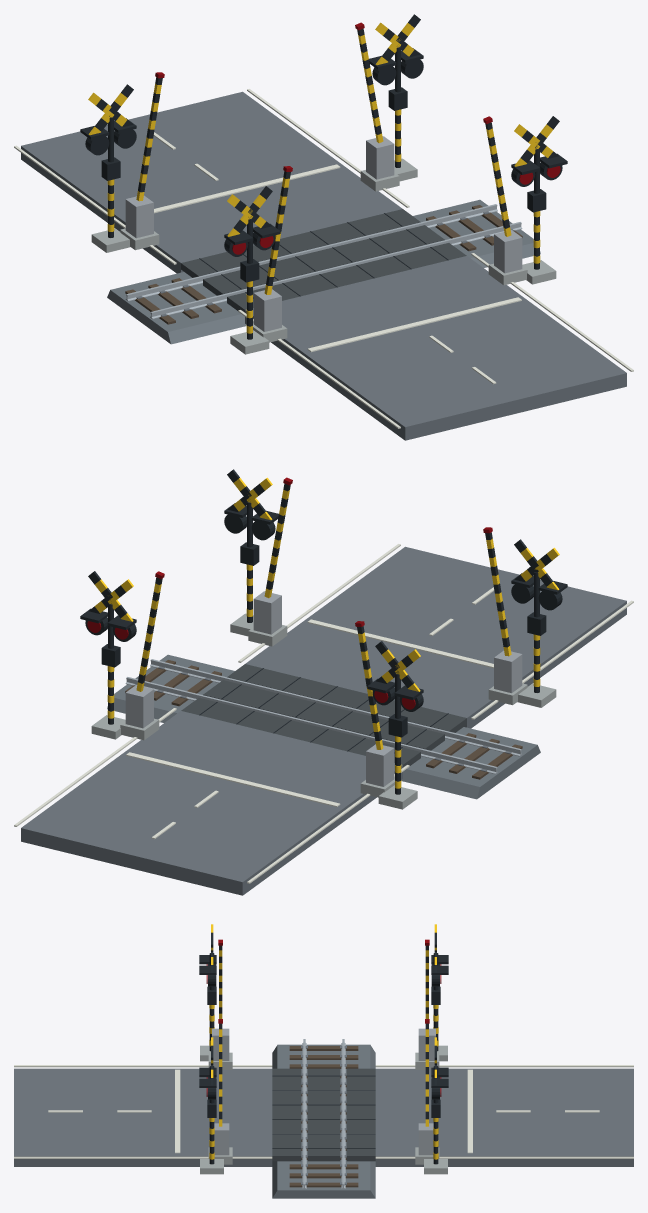
The model's file is crossing.glb.
3 renders of one model, top to bottom at view 1: azimuth 30°, elevation 25°; view 2: azimuth 150°, elevation 25°; view 3: azimuth 270°, elevation 25°, orthographic. The views are drawn at different scales.
Visible parts, largest first — view 1: RoadApproach, RoadApproach.001, Bed.001, RubberPanel.001, RubberPanel.002, RubberPanel, Rail_0_1.001, Rail_0_-1.001, StopLine, GateMotor.003, GateMotor.001, GateMotor.002 (+8 smaller); view 2: RoadApproach.001, RoadApproach, Bed.001, RubberPanel.001, RubberPanel, RubberPanel.002, Rail_0_-1.001, Rail_0_1.001, StopLine.001, GateMotor.001, GateMotor.003, GateMotor (+8 smaller); view 3: RoadApproach, RoadApproach.001, Bed.001, RubberPanel.001, RubberPanel, RubberPanel.002, RoadEdge, RoadEdge.001, RoadEdge.002, RoadEdge.003, Rail_0_1.001, Rail_0_-1.001 (+6 smaller).
Part boxes in pixels (left/top/right/bottom): RoadApproach: left=245, top=256, right=626, bottom=440; RoadApproach.001: left=21, top=91, right=402, bottom=273; Bed.001: left=107, top=199, right=540, bottom=344; RubberPanel.001: left=203, top=225, right=444, bottom=295; RubberPanel.002: left=181, top=209, right=420, bottom=277; RubberPanel: left=227, top=243, right=466, bottom=312; Rail_0_1.001: left=125, top=204, right=497, bottom=301; Rail_0_-1.001: left=150, top=222, right=522, bottom=319; StopLine: left=307, top=297, right=521, bottom=352; GateMotor.003: left=366, top=136, right=394, bottom=179; GateMotor.001: left=494, top=230, right=522, bottom=273; GateMotor.002: left=125, top=195, right=153, bottom=238; RoadApproach.001: left=21, top=711, right=402, bottom=895; RoadApproach: left=245, top=546, right=626, bottom=728; Bed.001: left=107, top=654, right=540, bottom=799; RubberPanel.001: left=203, top=680, right=444, bottom=750; RubberPanel: left=227, top=664, right=466, bottom=732; RubberPanel.002: left=181, top=698, right=420, bottom=767; Rail_0_-1.001: left=150, top=659, right=522, bottom=756; Rail_0_1.001: left=125, top=677, right=497, bottom=774; StopLine.001: left=126, top=752, right=340, bottom=807; GateMotor.001: left=253, top=591, right=281, bottom=634; GateMotor.003: left=125, top=685, right=153, bottom=728; GateMotor: left=494, top=650, right=522, bottom=693; RoadApproach: left=14, top=1068, right=272, bottom=1166; RoadApproach.001: left=375, top=1068, right=633, bottom=1166; Bed.001: left=272, top=1044, right=375, bottom=1198; RubberPanel.001: left=307, top=1068, right=340, bottom=1161; RubberPanel: left=272, top=1068, right=301, bottom=1161; RubberPanel.002: left=346, top=1068, right=375, bottom=1161; RoadEdge: left=14, top=1065, right=272, bottom=1067; RoadEdge.001: left=14, top=1156, right=272, bottom=1158; RoadEdge.002: left=375, top=1065, right=633, bottom=1067; RoadEdge.003: left=375, top=1156, right=633, bottom=1158; Rail_0_1.001: left=341, top=1039, right=345, bottom=1188; Rail_0_-1.001: left=302, top=1039, right=306, bottom=1188.
Size of the model in its own units: 10 by 4.66 by 18.
